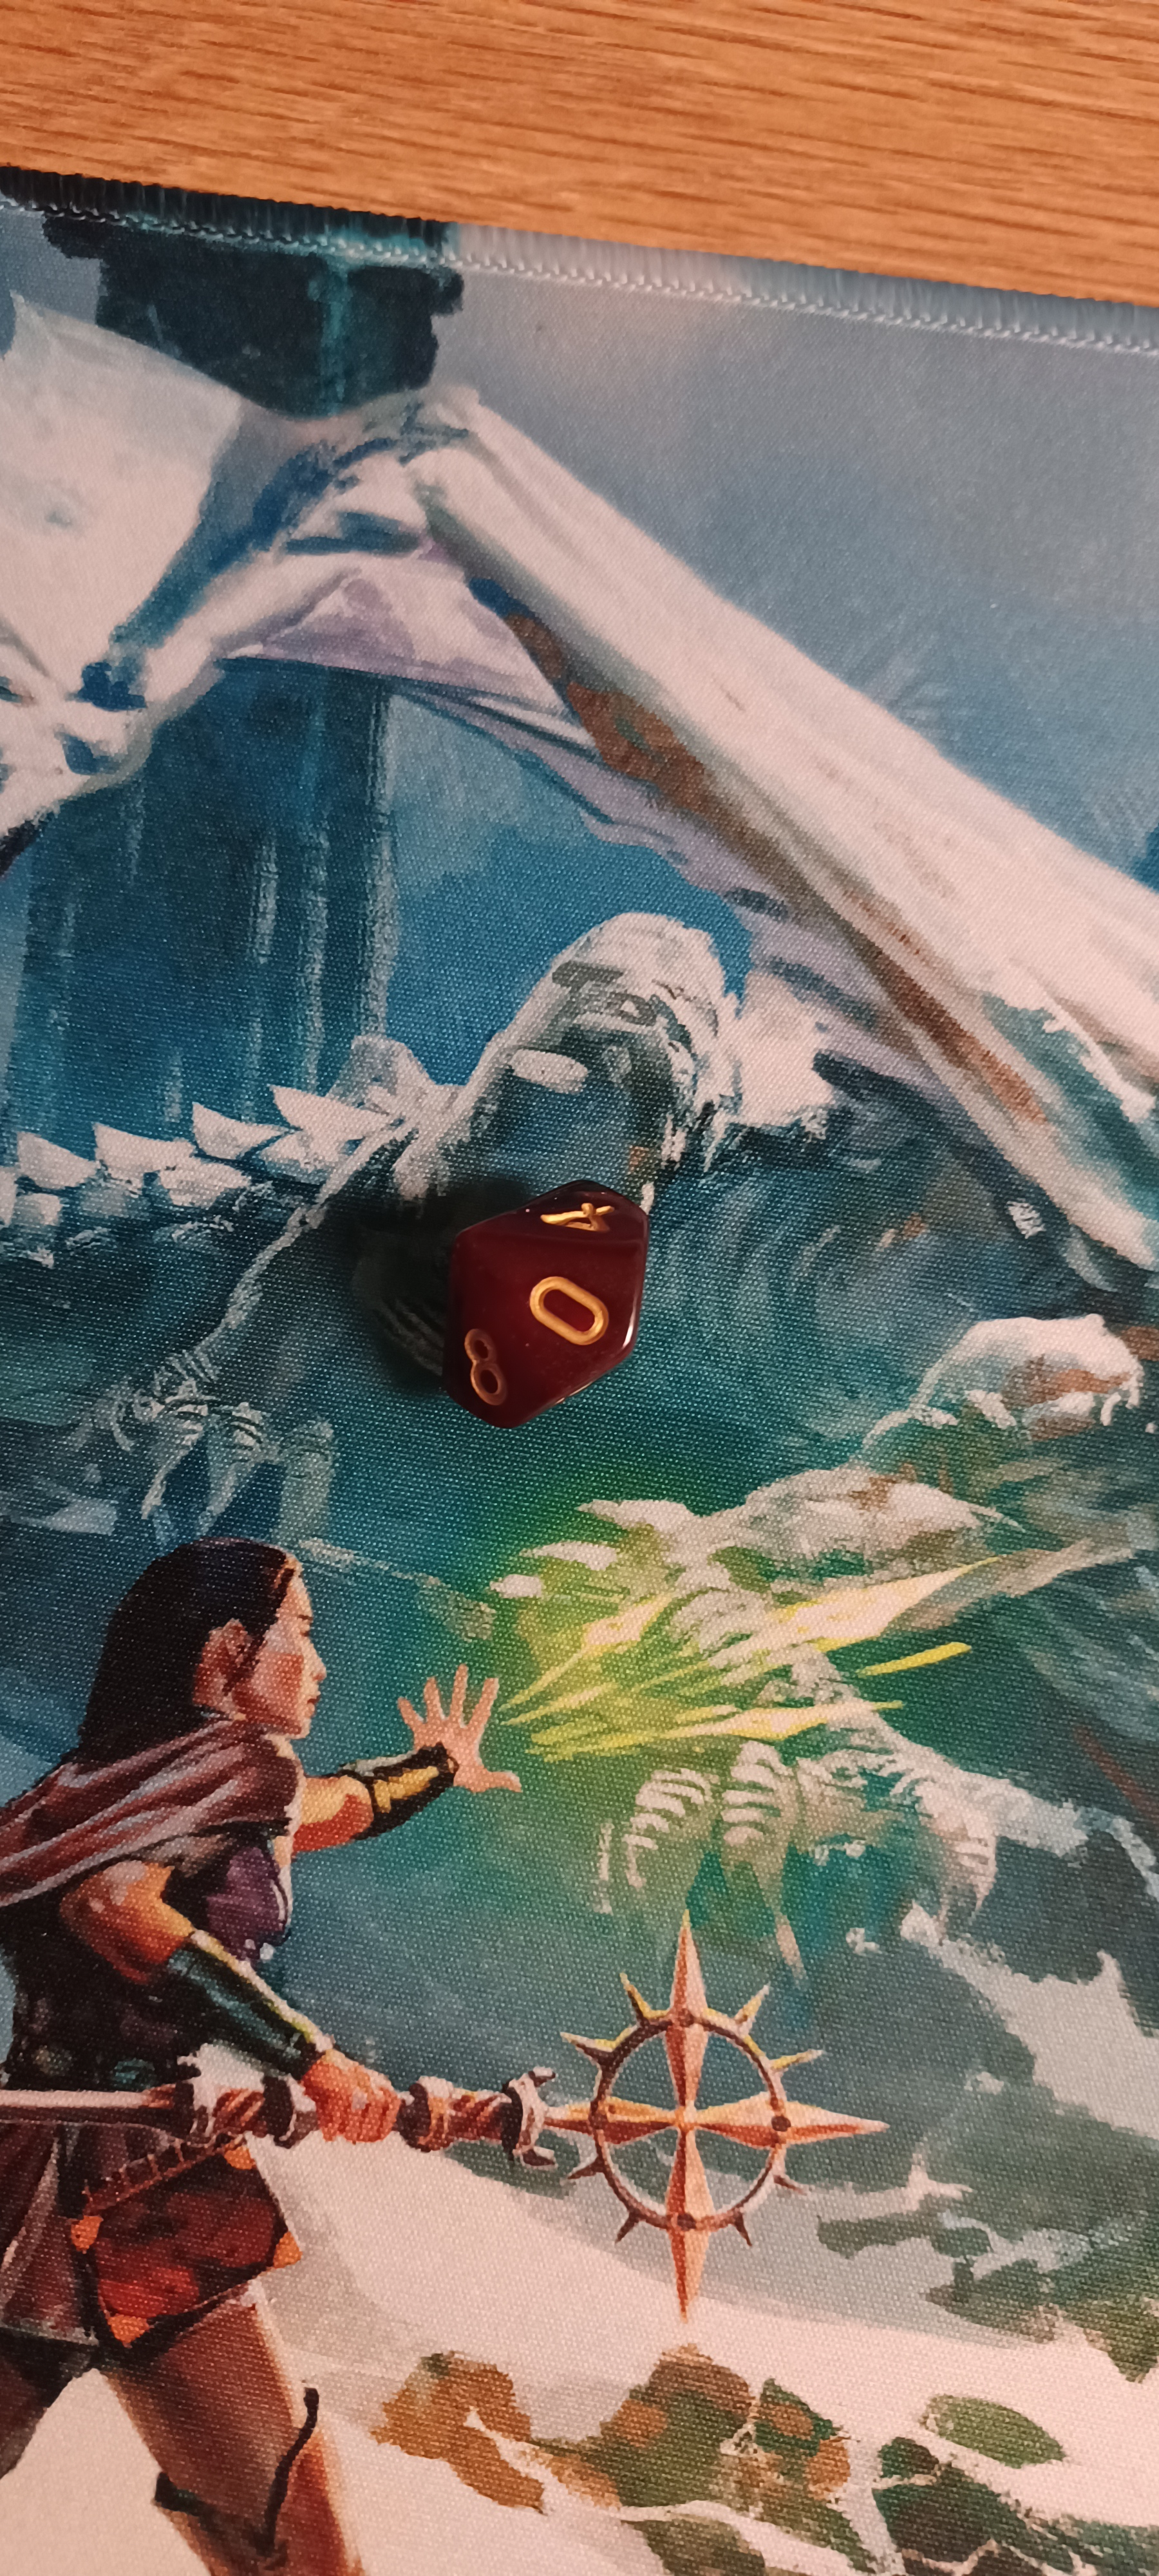zero: (387, 1138, 712, 1452)
